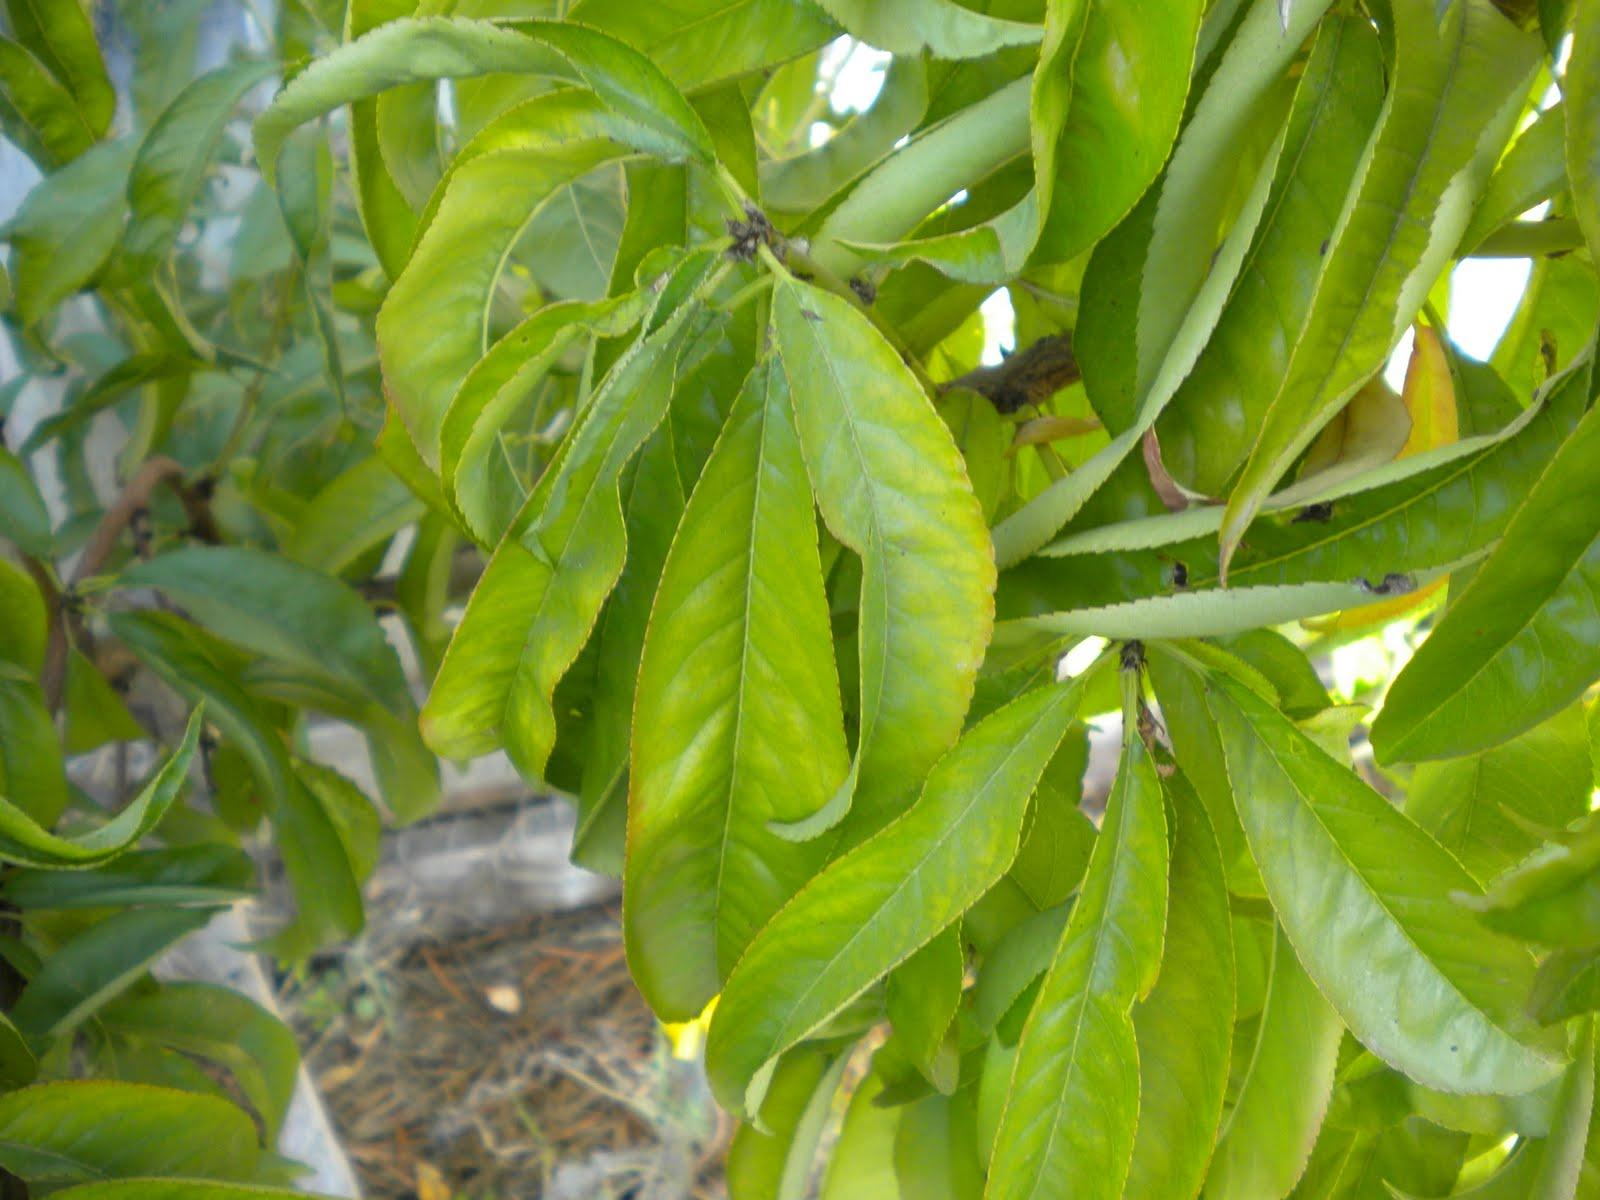Peach leaf: (1199, 9, 1548, 555), (699, 666, 1112, 1117), (402, 290, 732, 811), (619, 326, 849, 1054), (1197, 655, 1550, 1099), (743, 236, 990, 862), (339, 101, 654, 562), (986, 722, 1186, 1200), (422, 274, 643, 576)
